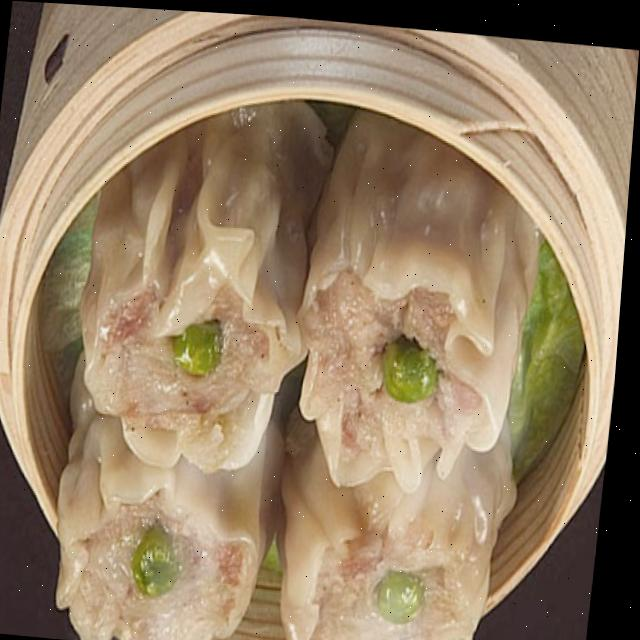带馅早点: (28, 93, 561, 640)
